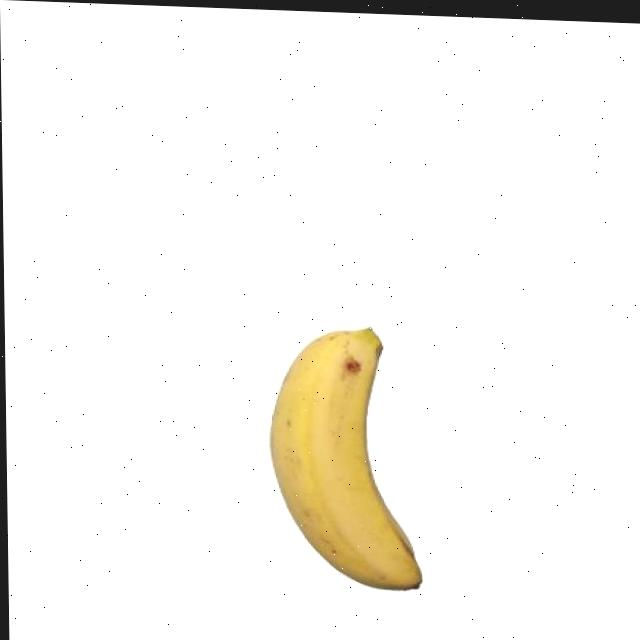banana: (260, 315, 430, 600)
